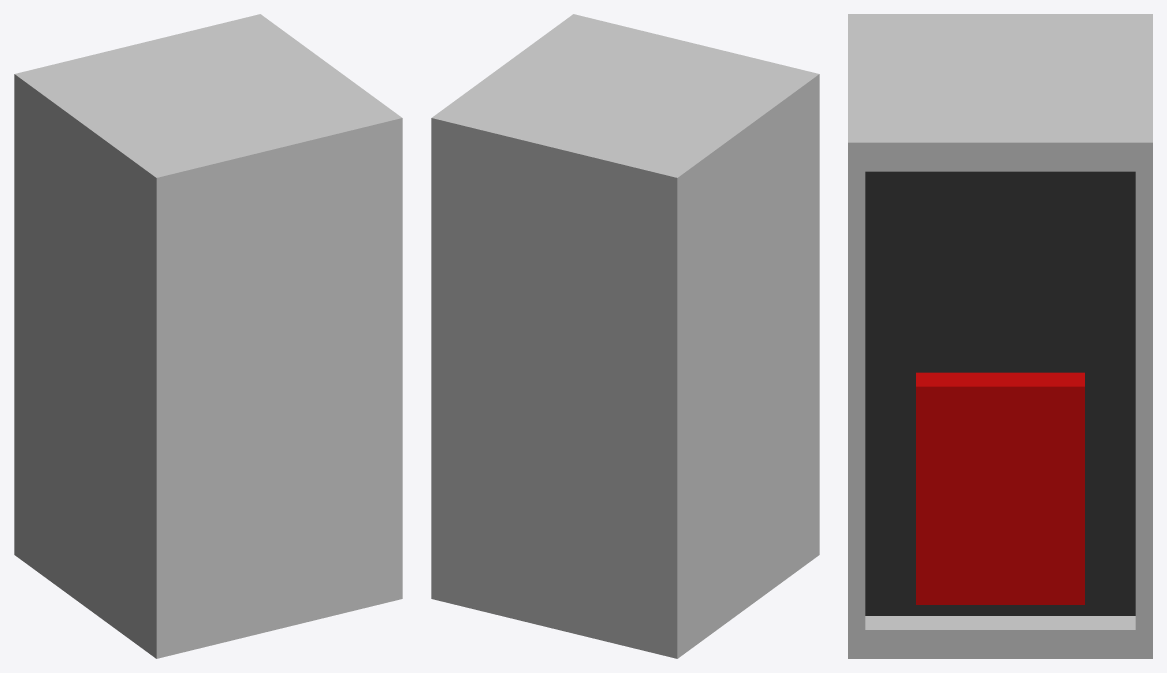
File: switchoff.fbx
3 views of the same model, side by side, from view 1: azimuth 30°, elevation 25°; view 2: azimuth 150°, elevation 25°; view 3: azimuth 270°, elevation 25° (orthographic). The views are drawn at different scales.
Parts seen in each view (by area): view 1: Cube; view 2: Cube; view 3: Cube.
Boxes of the visible parts, <box> form: Cube: <box>14,14,402,658</box>; Cube: <box>431,14,819,658</box>; Cube: <box>848,14,1152,658</box>.
Size of the model in its own units: 2 by 3.74 by 2.
